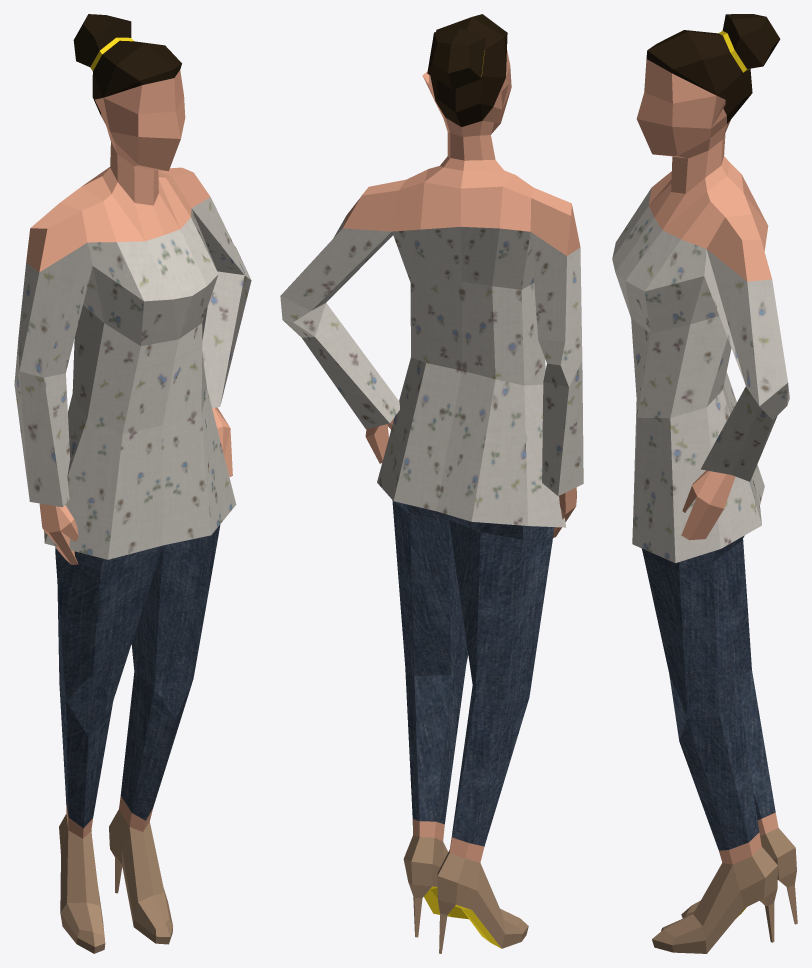
File: SpringWomanA.008.glb
The picture shows the model from 3 angles, left to right: view 1: azimuth 30°, elevation 25°; view 2: azimuth 150°, elevation 25°; view 3: azimuth 270°, elevation 25°; orthographic projection. The views are drawn at different scales.
Parts seen in each view (by area): view 1: SpringWomanA.009; view 2: SpringWomanA.009; view 3: SpringWomanA.009.
Part boxes in pixels (x1,y1,x2,y2): SpringWomanA.009: [14, 14, 251, 953]; SpringWomanA.009: [280, 14, 583, 953]; SpringWomanA.009: [612, 14, 797, 953].
Size of the model in its own units: 0.5206 by 1.74 by 0.3156.
1 material, 1 textured.
